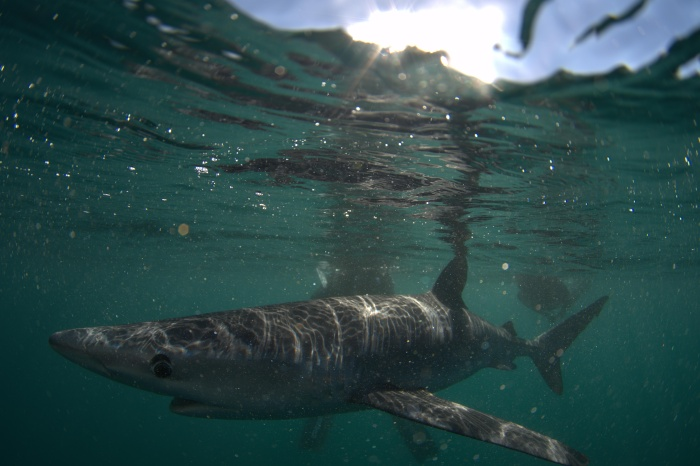Azul: (41, 239, 638, 466)
